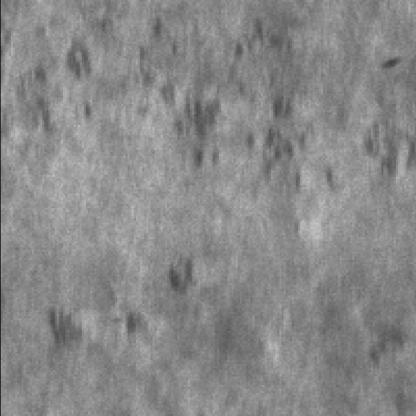rolled-in_scale: (15, 5, 339, 196), (37, 258, 202, 360), (349, 106, 416, 197)
